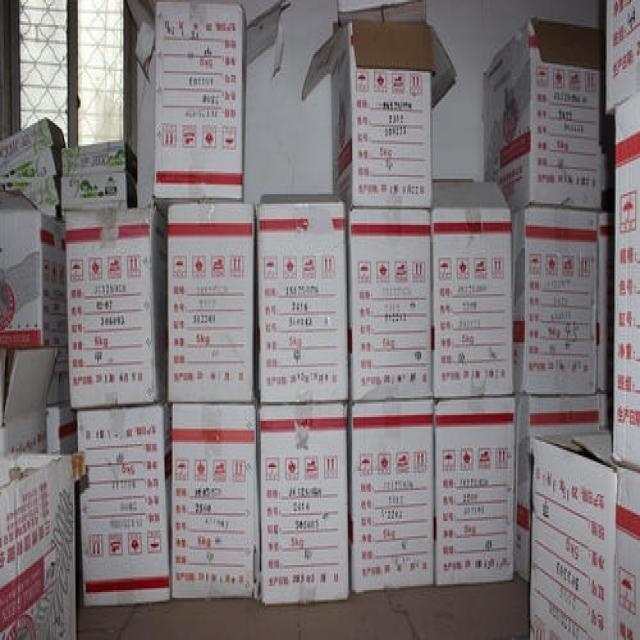box: (301, 19, 458, 206), (483, 17, 605, 209), (65, 200, 166, 409), (152, 2, 246, 209), (256, 194, 348, 404), (77, 402, 170, 607), (259, 402, 351, 605), (530, 431, 616, 640), (431, 179, 513, 398), (168, 204, 256, 402), (172, 404, 260, 598), (349, 398, 434, 594), (0, 450, 86, 640), (347, 208, 431, 400), (515, 394, 600, 582), (512, 206, 596, 396), (433, 398, 515, 584), (613, 86, 640, 471), (61, 140, 138, 181), (61, 171, 138, 209)
